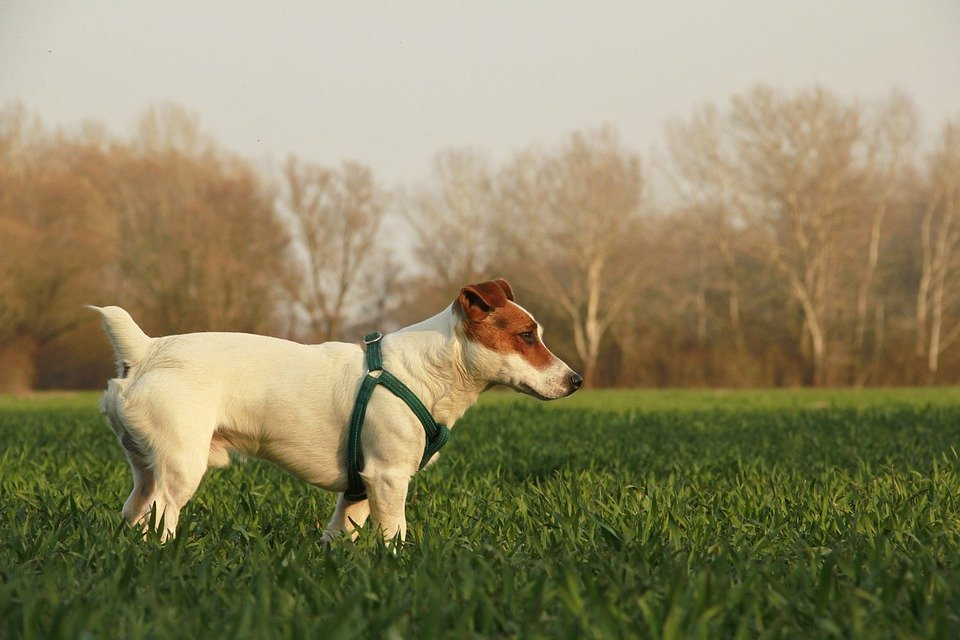dog: (72, 267, 592, 565)
